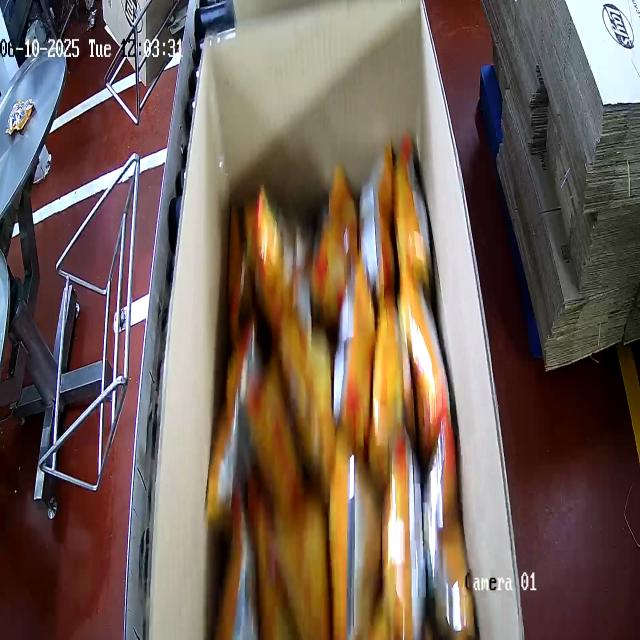FRENCH_CHEESE: (227, 161, 475, 640)
